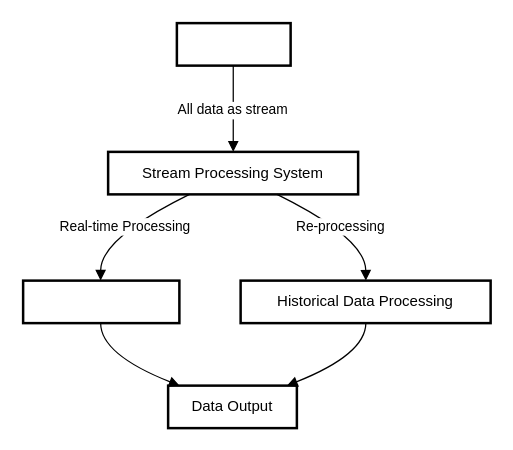
Image size: 513x450. Some labels were removed from this diagram. Here are the shapes that lost their labels. From the top down, the centre of each, then its label:
point (233, 43): Data Input
point (100, 301): Real-time View
